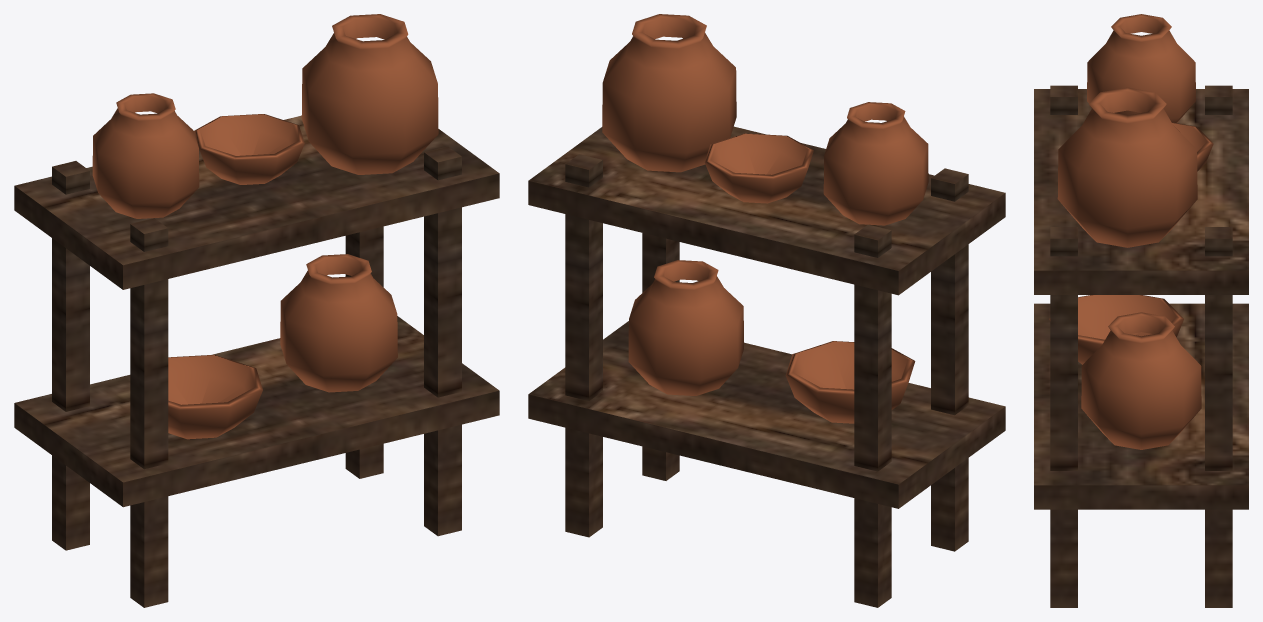
File: periodPottery.glb
The picture shows the model from 3 angles, left to right: view 1: azimuth 30°, elevation 25°; view 2: azimuth 150°, elevation 25°; view 3: azimuth 270°, elevation 25°; orthographic projection.
Visible parts, largest first — view 1: part_1, part_0; view 2: part_1, part_0; view 3: part_1, part_0.
Part boxes in pixels (x1,y1,x2,y2): part_1: (14,115,499,607); part_0: (92,14,438,439); part_1: (528,126,1005,607); part_0: (602,14,928,423); part_1: (1034,85,1248,607); part_0: (1049,14,1213,449).
Size of the model in its own units: 0.78 by 0.96 by 0.39.
Materials: 2 (1 with a texture image).
